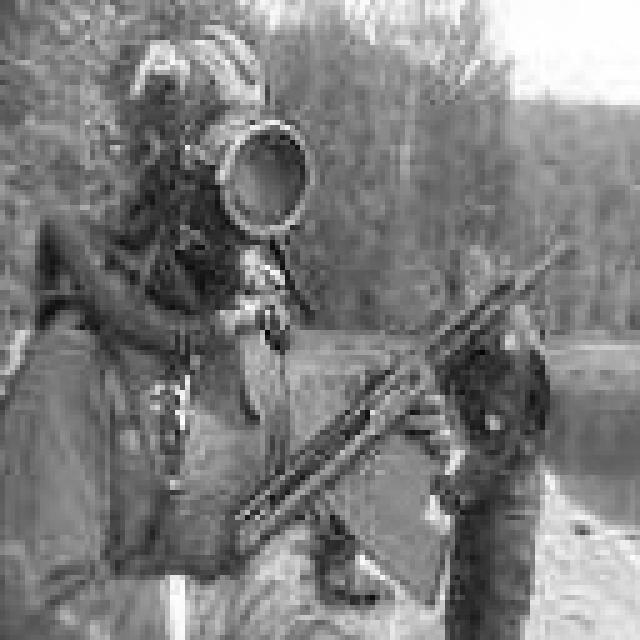Rifle: (137, 176, 623, 626)
